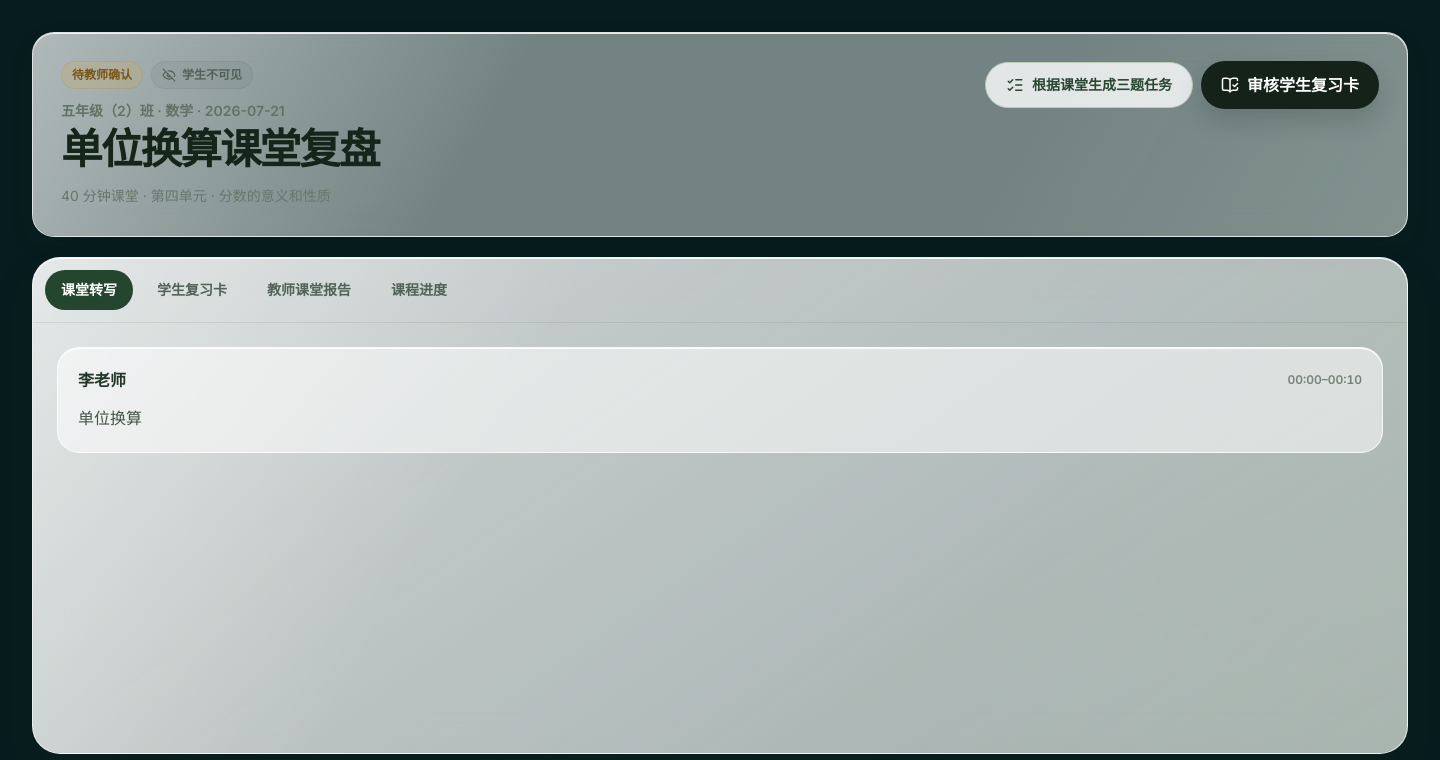
Test: LessonDetailPage › switches among transcript, recap, teacher report, and course progress tabs
The image size is (1440, 760).
Expected: the heading "单位换算课堂复盘" is shown, [61,127,379,172]
Expected: the text "单位换算" is shown, [78,408,142,428]
Click the tab "学生复习卡" at [192, 290], box [141,270,243,310]
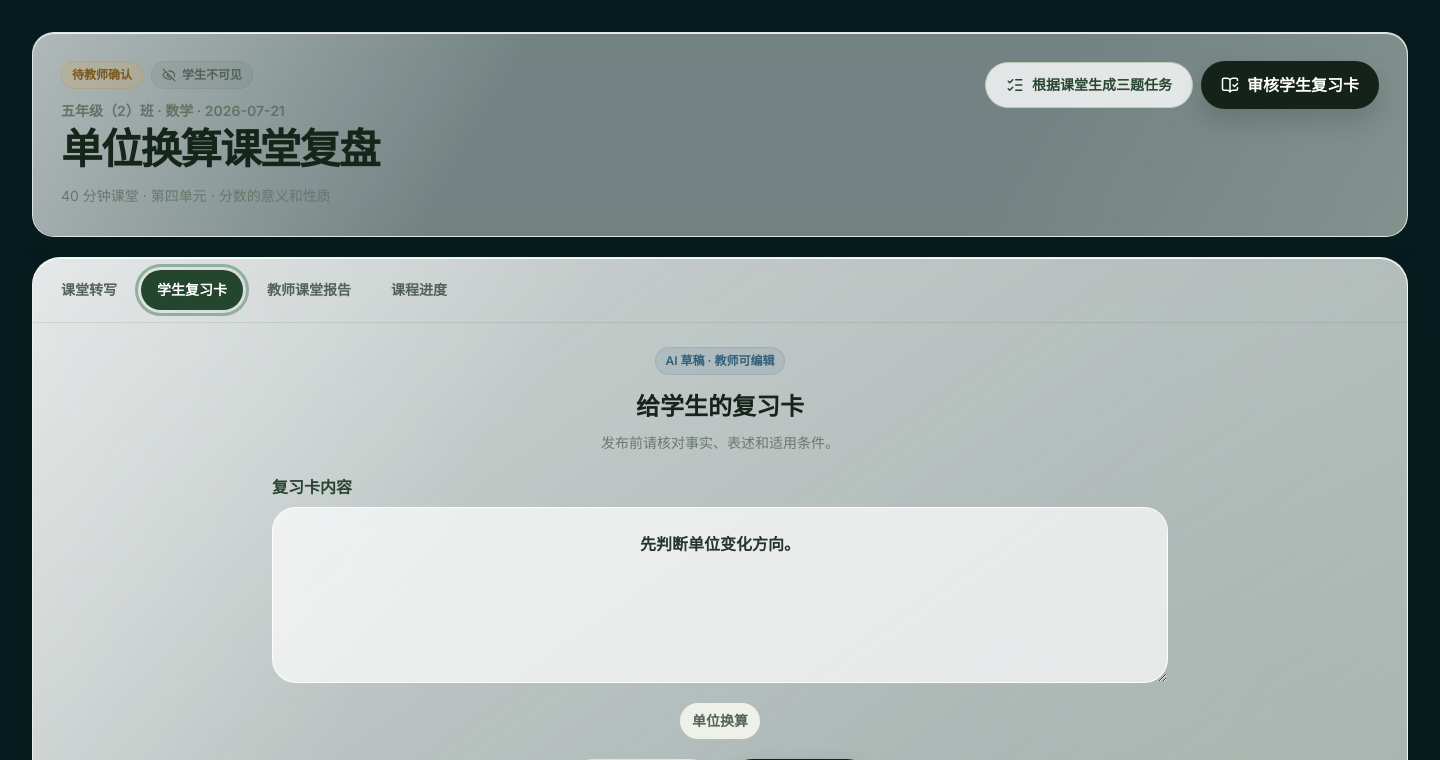
Expected: the text box labelled "复习卡内容" holds "先判断单位变化方向。", [272,507,1168,683]
Click the tab "教师课堂报告" at [309, 290], box [251,270,367,310]
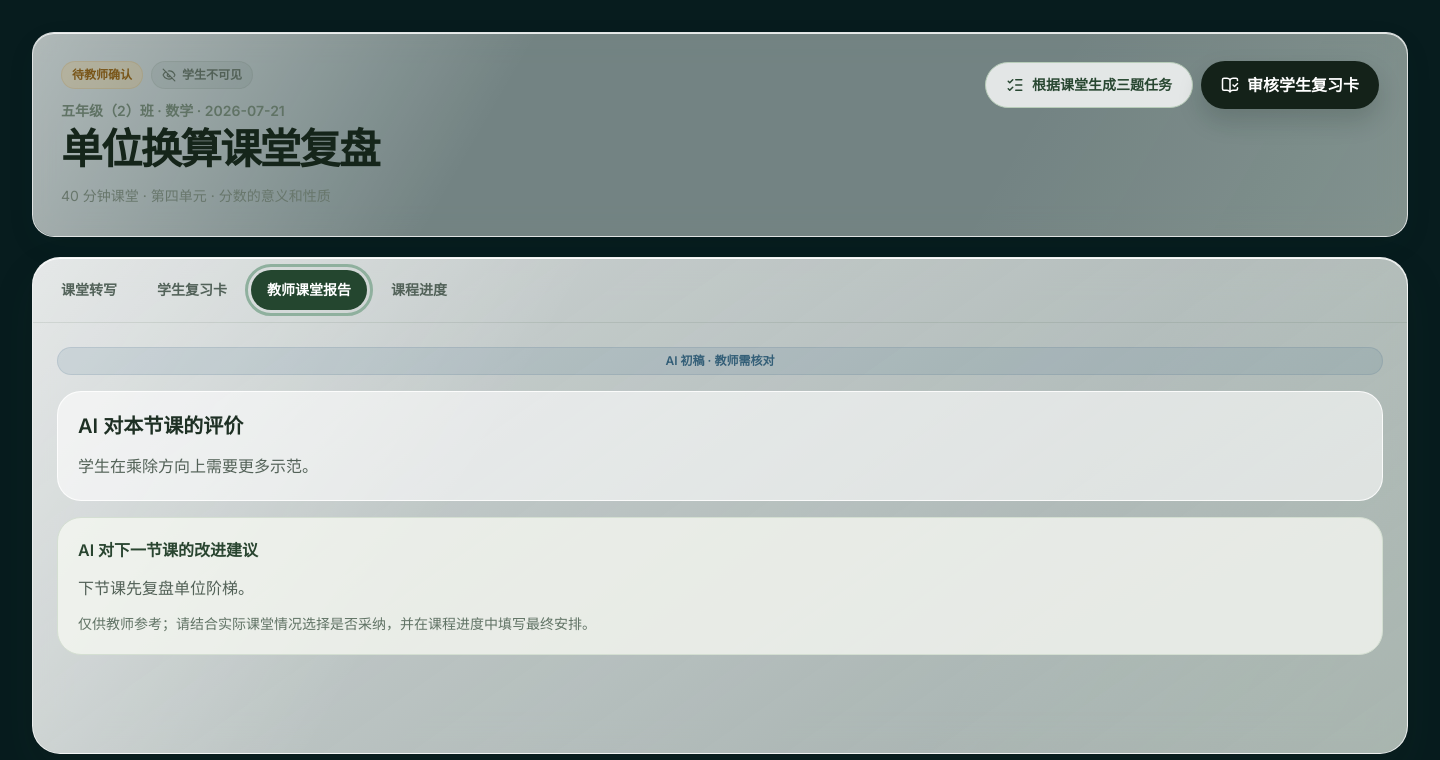
Expected: the text "学生在乘除方向上需要更多示范。" is shown, [78,456,318,476]
Expected: the heading "AI 对本节课的评价" is shown, [78,414,243,438]
Expected: the heading "AI 对下一节课的改进建议" is shown, [78,540,258,560]
Click the tab "课程进度" at [419, 290], box [375,270,463,310]
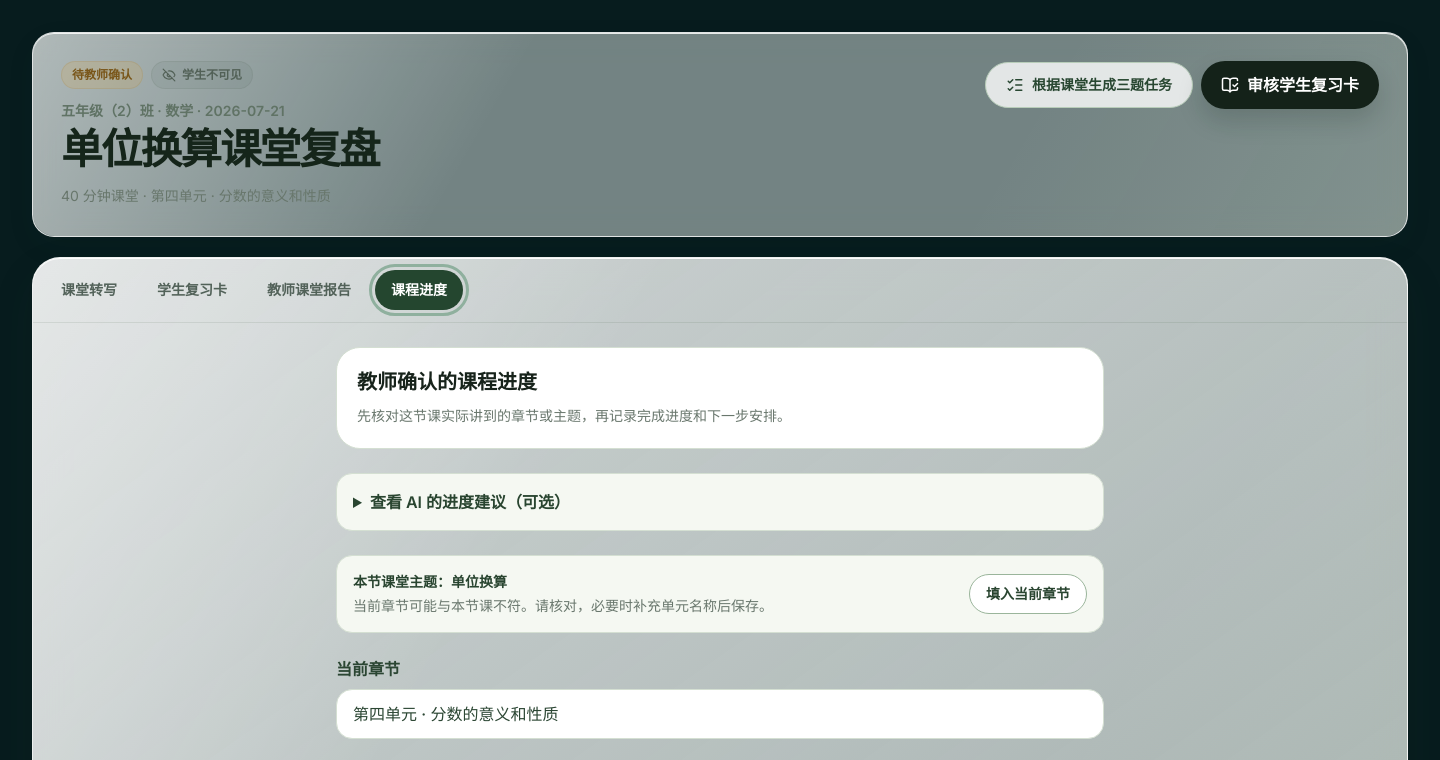
Expected: the text "本节课堂主题：单位换算" is shown, [353,573,507,590]
Click the button "填入当前章节" at [1028, 594], box [969,574,1087,614]
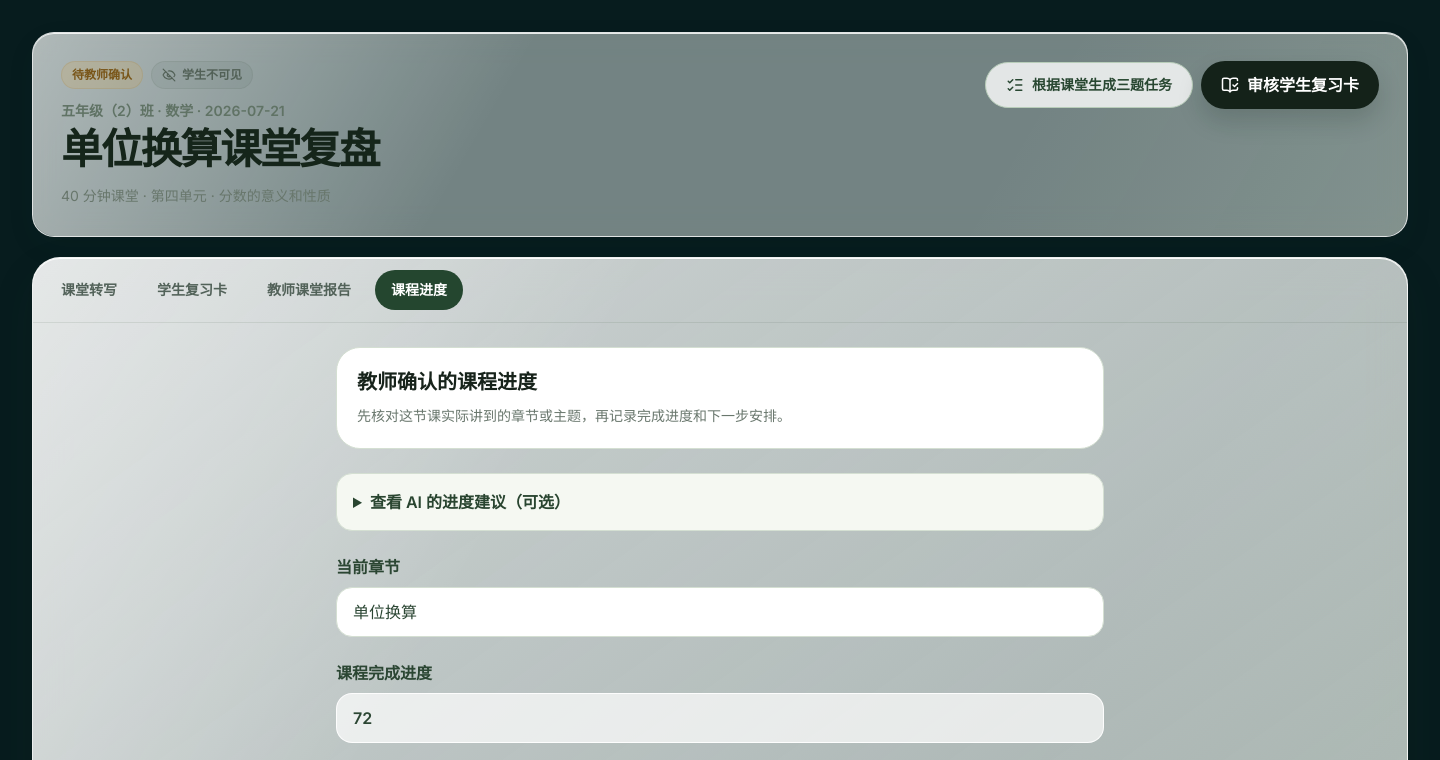
Expected: the field labelled "当前章节" holds "单位换算", [336,587,1104,637]
